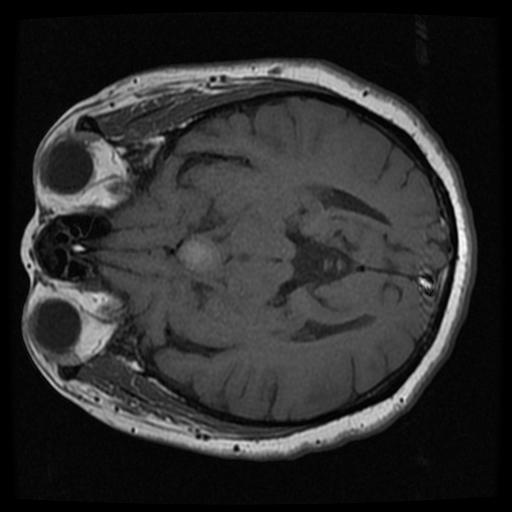pituitary tumour: (175, 239, 215, 273)
